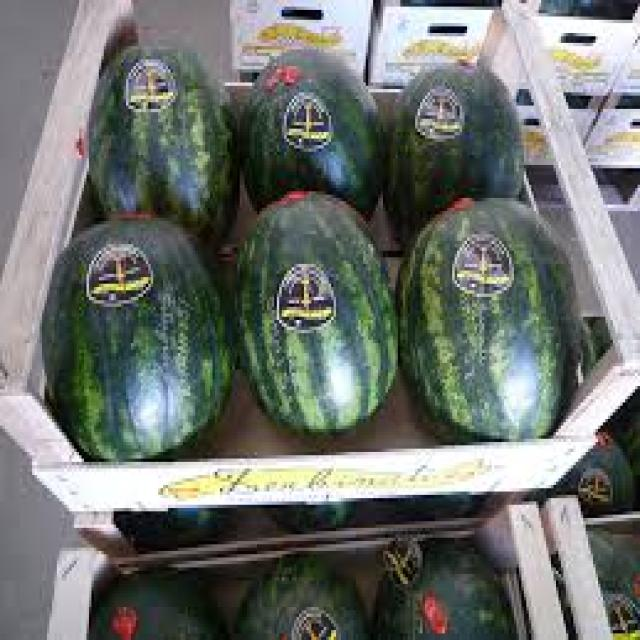biodegradable: (393, 195, 583, 439), (37, 218, 227, 449), (230, 185, 393, 435), (84, 40, 237, 228), (237, 46, 383, 208), (386, 56, 522, 201), (371, 541, 517, 637), (225, 554, 368, 637), (89, 571, 222, 637)
